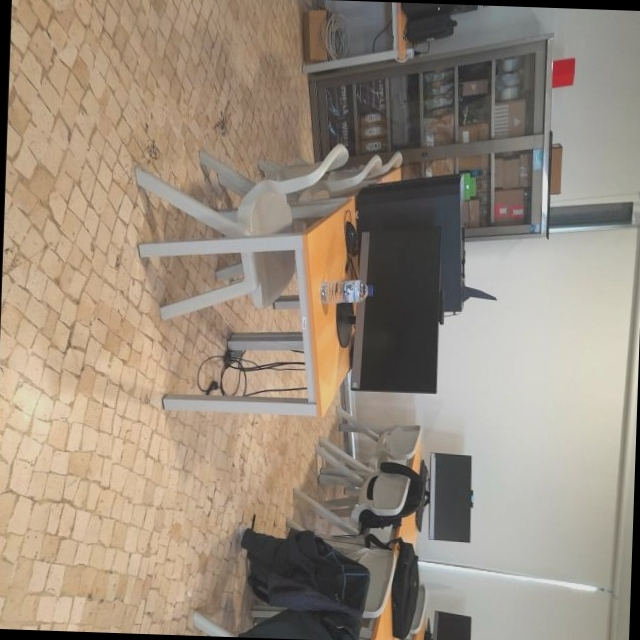Plastic-bottle: (312, 270, 376, 310)
